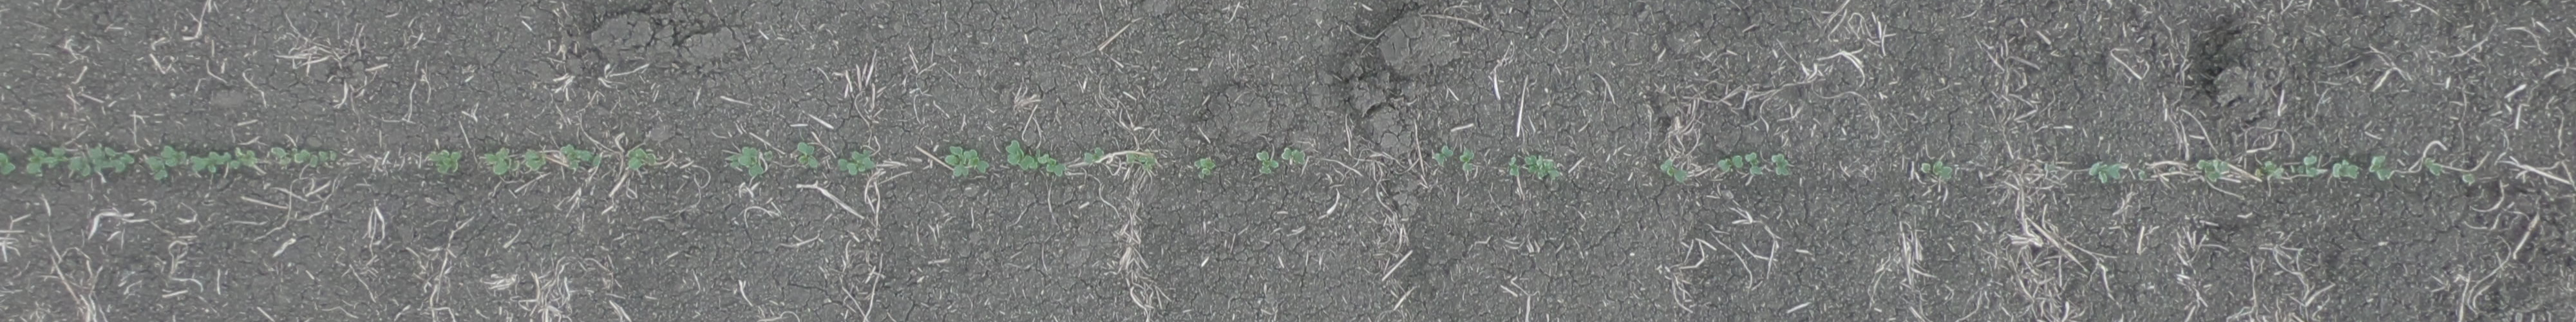plant: (69, 145, 133, 177), (145, 145, 186, 181), (946, 145, 989, 177), (26, 146, 67, 176), (1005, 141, 1037, 169), (1038, 153, 1066, 179), (2090, 163, 2119, 186), (1661, 159, 1687, 184), (1459, 146, 1479, 177), (797, 140, 818, 168), (485, 149, 508, 174), (1255, 149, 1280, 172), (187, 154, 218, 172), (2371, 156, 2392, 182), (1281, 148, 1309, 168), (2198, 159, 2221, 182), (2334, 161, 2359, 182), (2257, 161, 2284, 181), (1717, 153, 1745, 171), (230, 151, 255, 171), (848, 158, 877, 174), (1745, 153, 1763, 179), (562, 143, 578, 171), (1433, 146, 1454, 168), (2422, 154, 2443, 176), (271, 146, 291, 169), (519, 149, 542, 169), (1769, 153, 1789, 176), (296, 149, 317, 169), (1194, 158, 1214, 179), (1934, 159, 1955, 179), (1084, 148, 1104, 168), (440, 153, 458, 174), (2305, 154, 2321, 177), (1508, 154, 1523, 177), (0, 151, 13, 176), (1525, 153, 1538, 176), (319, 149, 337, 166)
